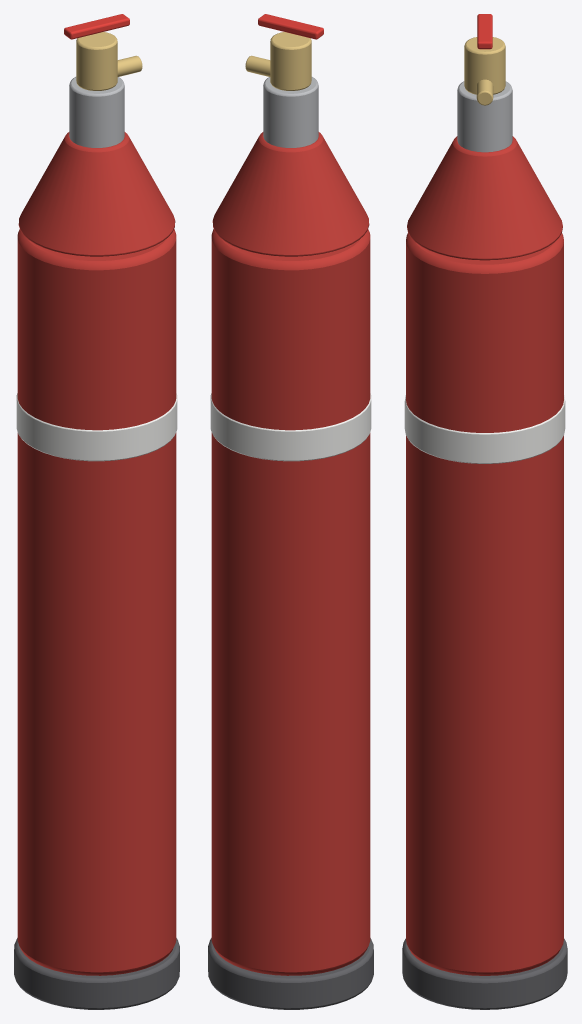
Rendered from gas_cylinder_red.glb.
3 views of the same model, side by side, from view 1: azimuth 30°, elevation 25°; view 2: azimuth 150°, elevation 25°; view 3: azimuth 270°, elevation 25° (orthographic).
Parts seen in each view (by area): view 1: gas_cylinder_red; view 2: gas_cylinder_red; view 3: gas_cylinder_red.
Boxes of the visible parts, x1=… form: gas_cylinder_red: x1=14, y1=14, x2=179, y2=1009; gas_cylinder_red: x1=208, y1=14, x2=373, y2=1009; gas_cylinder_red: x1=402, y1=14, x2=567, y2=1009.
Bounding box in the file's own units: 0.24 × 1.52 × 0.24.
